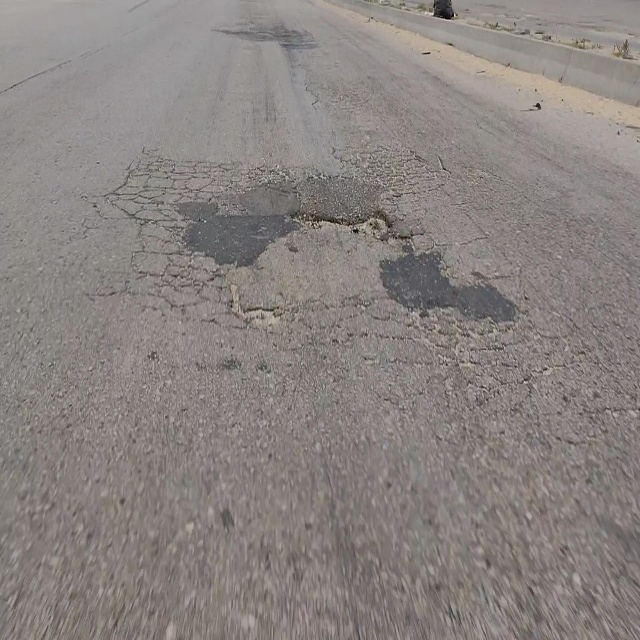pothole: (290, 209, 413, 246)
